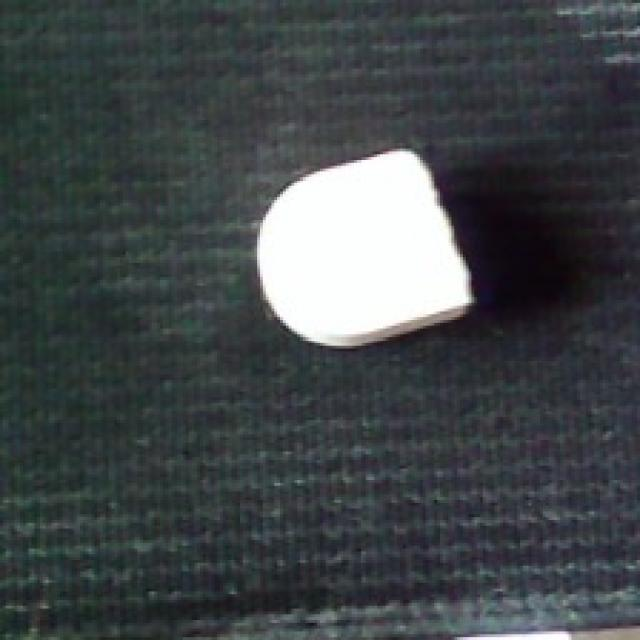defected: (251, 146, 480, 348)
